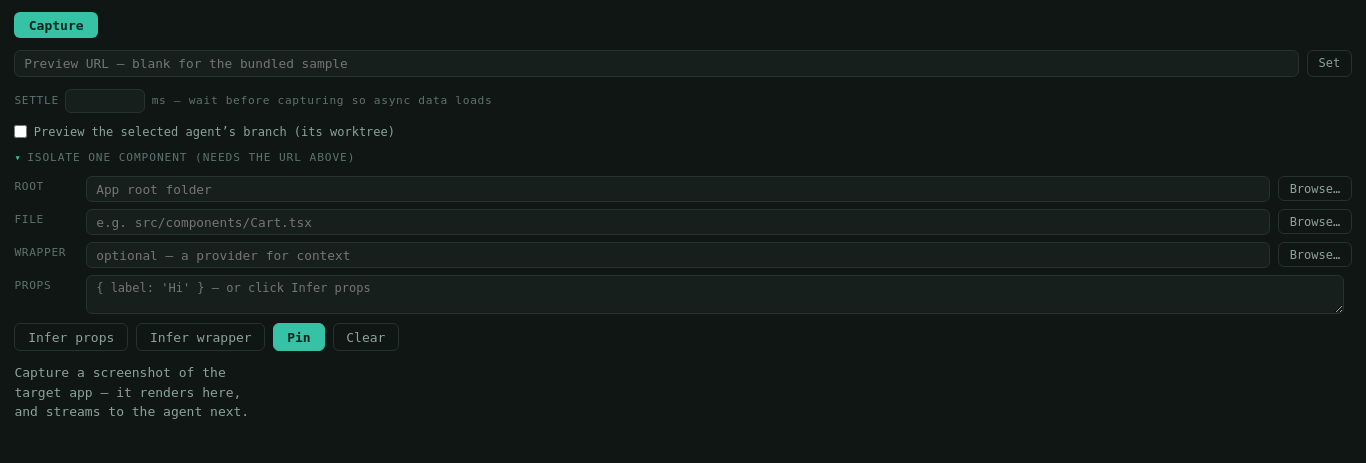
Test case: Preview › surfaces a failed capture instead of failing silently
Click the button "Capture": (56, 25) [14,12,98,38]
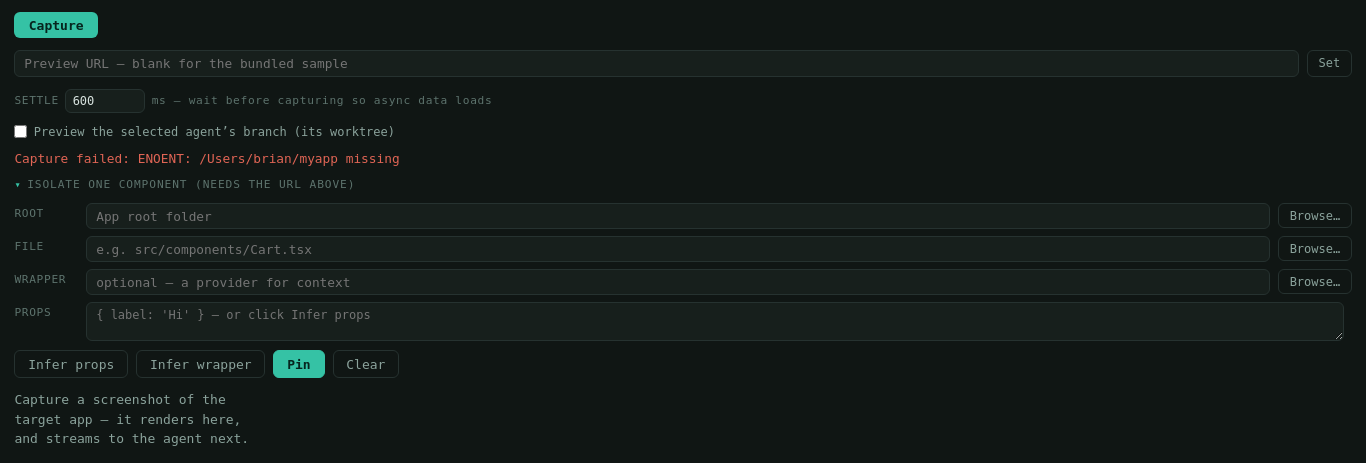
Now the message shows "ENOENT: /Users/brian/myapp missing", box [138,151,400,166]
Click the button "Capture": (56, 25) [14,12,98,38]
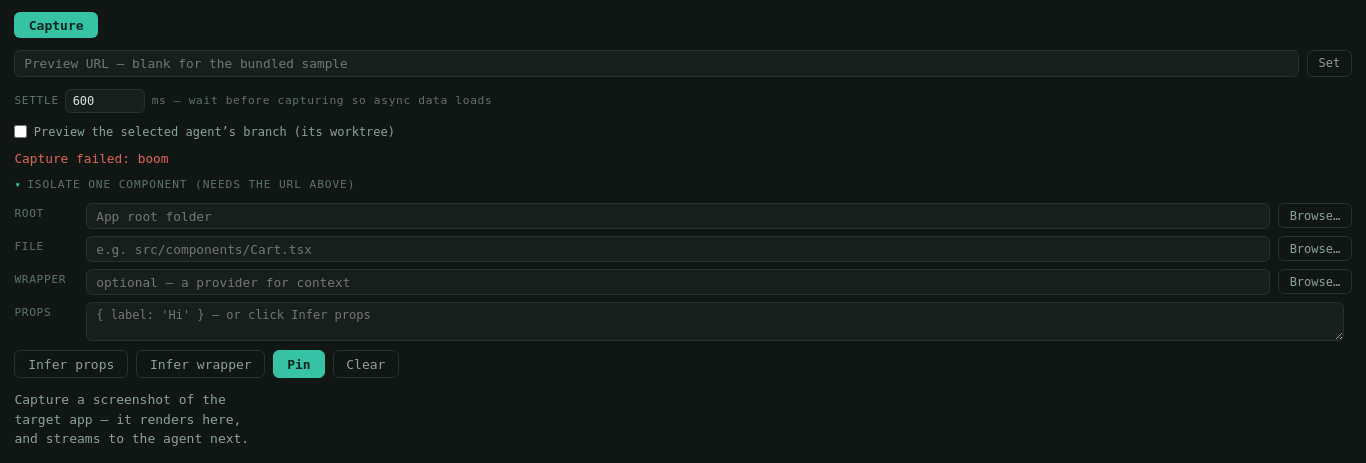
Now the message shows "boom", box [138,151,168,166]
